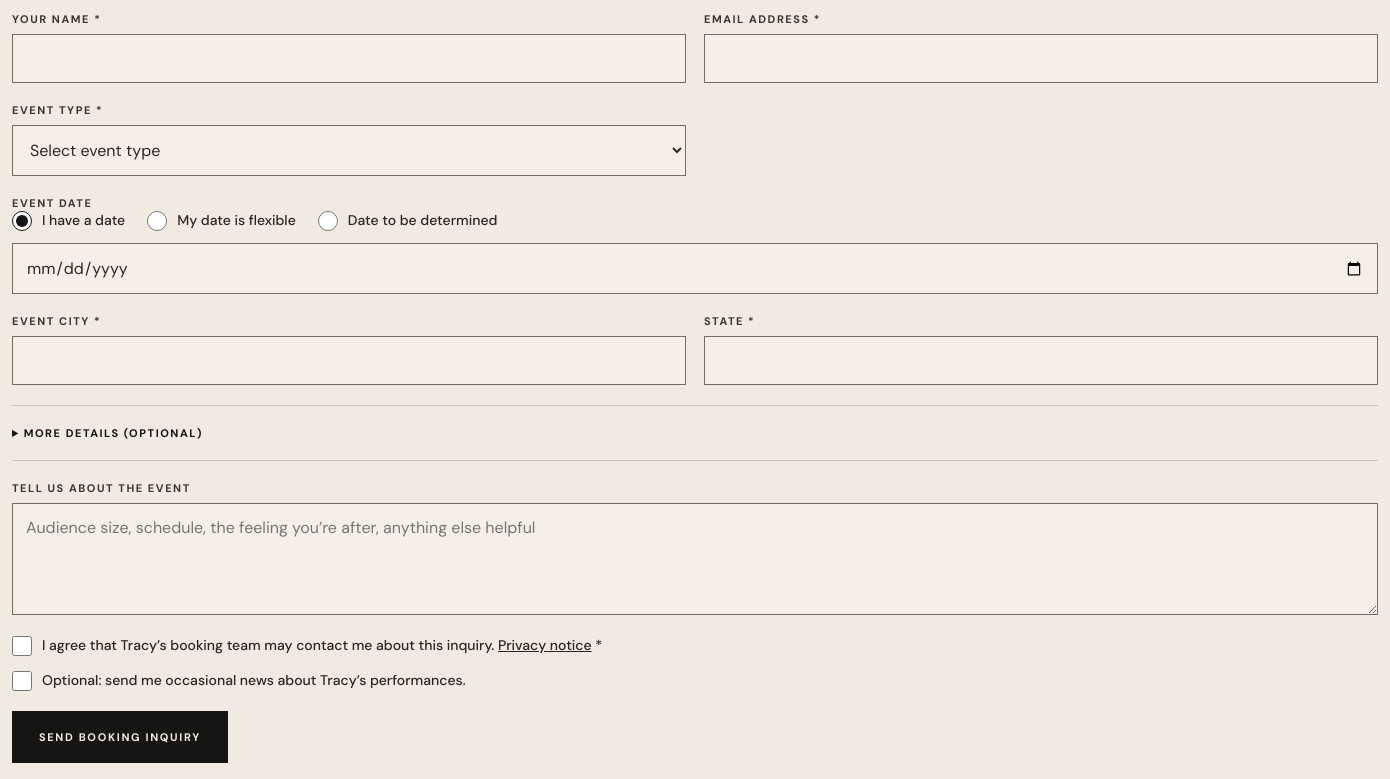
Scenario: BookingInquiryForm › posts the right payload and shows thanks only after the server confirms
Type "Sample Booker" into the field labelled "Your name *" at (349, 58), box [12,34,686,83]
Type "booker@example.com" into the field labelled "Email address *" at (1041, 58), box [704,34,1378,83]
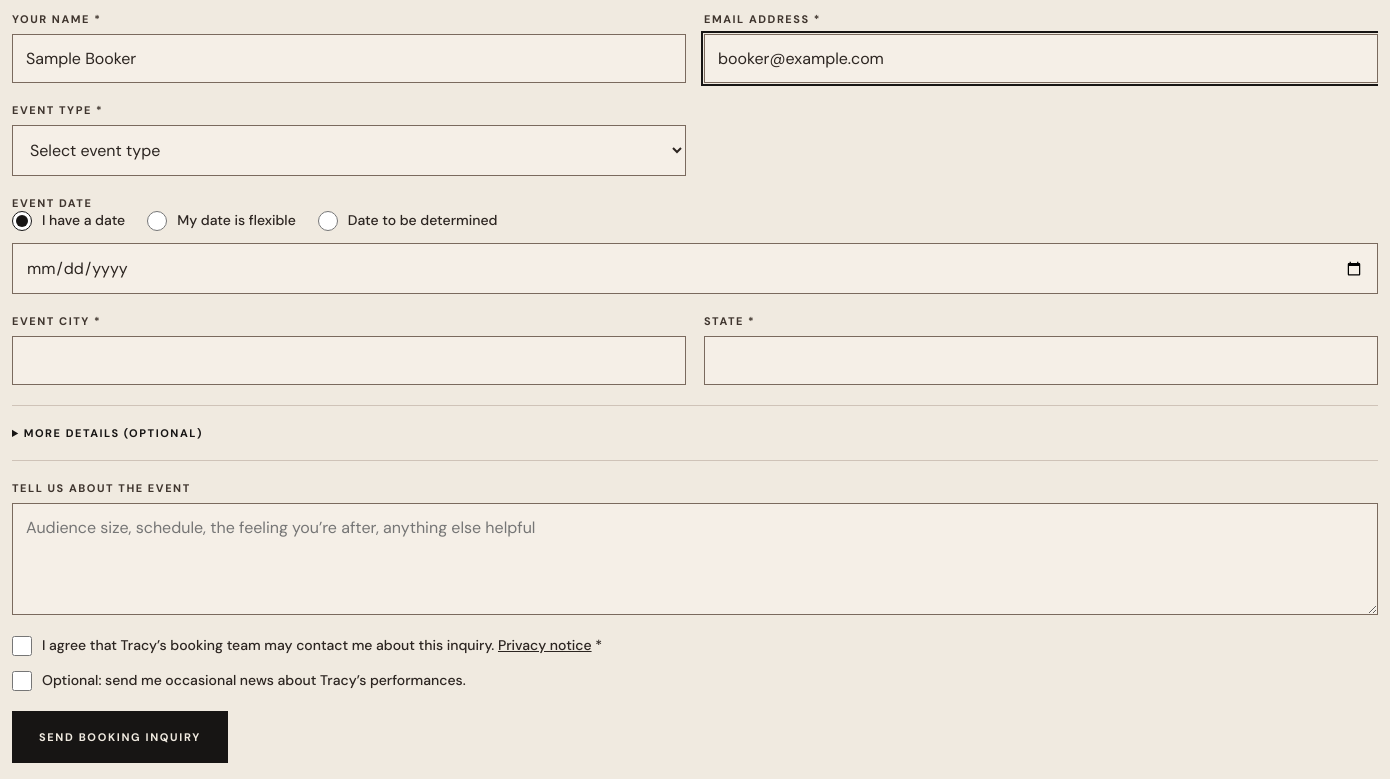
Select "Corporate event" in the dropdown labelled "Event type *" at (349, 150), box [12,125,686,176]
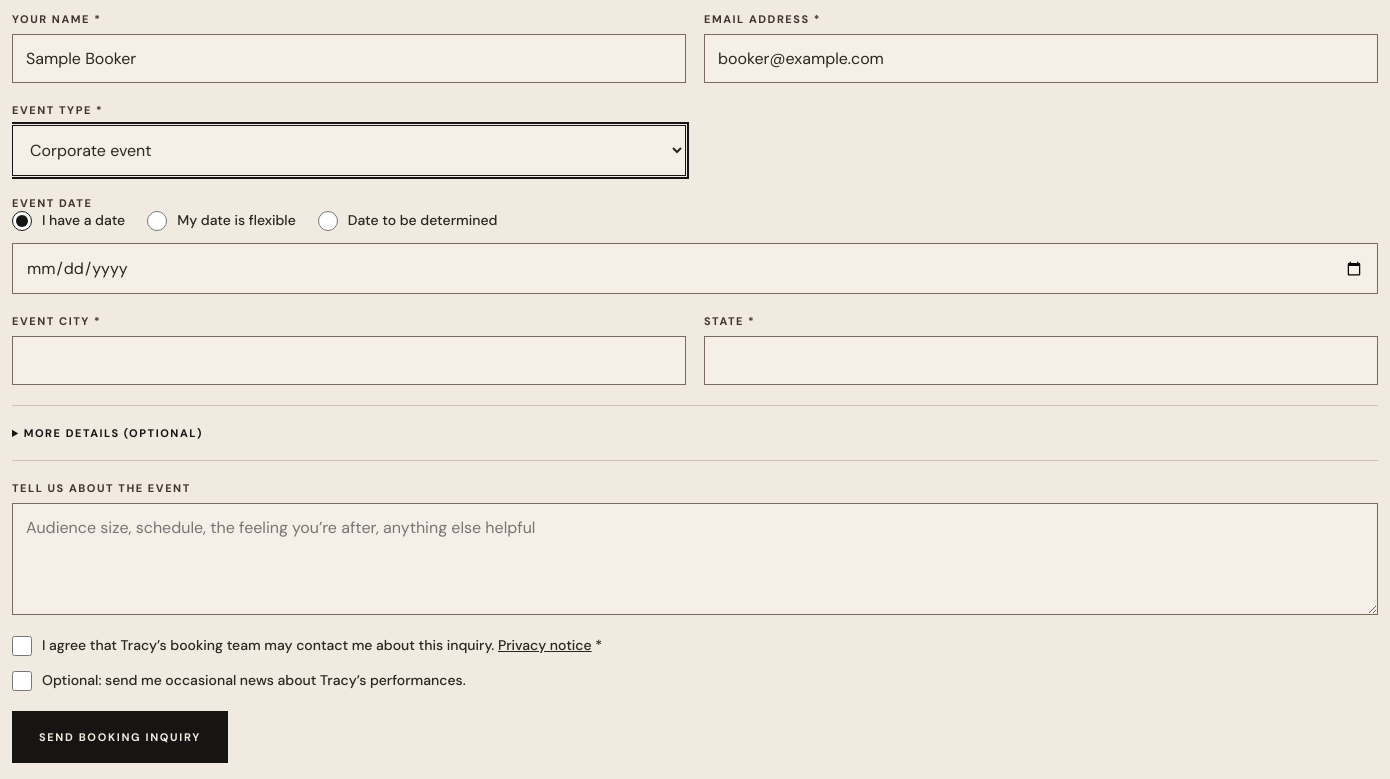
Click the radio button labelled "Date to be determined" at (328, 221), box [318,211,338,231]
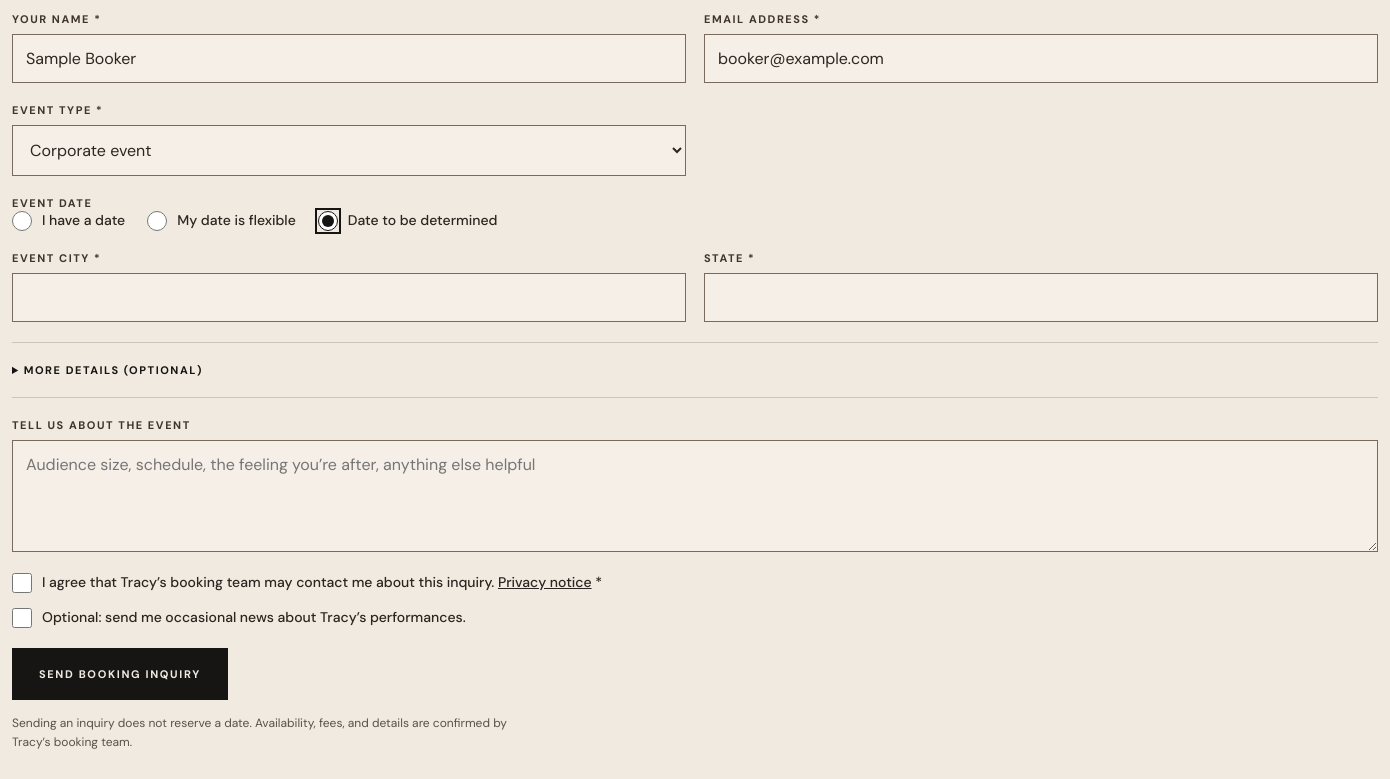
Type "St. Louis" into the field labelled "Event city *" at (349, 298), box [12,273,686,322]
Type "MO" into the field labelled "State *" at (1041, 298), box [704,273,1378,322]
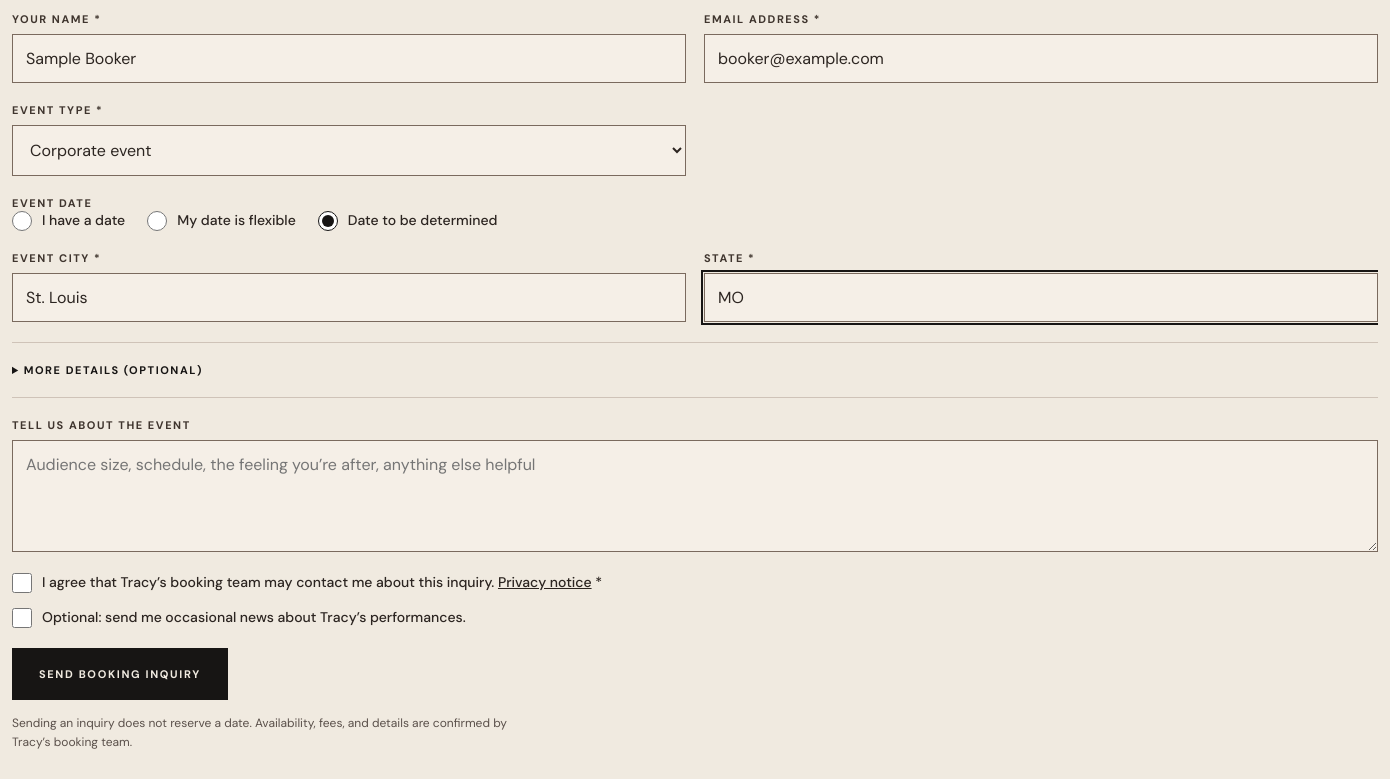
Click the checkbox labelled "may contact me about this inquiry" at (22, 583), box [12,573,32,593]
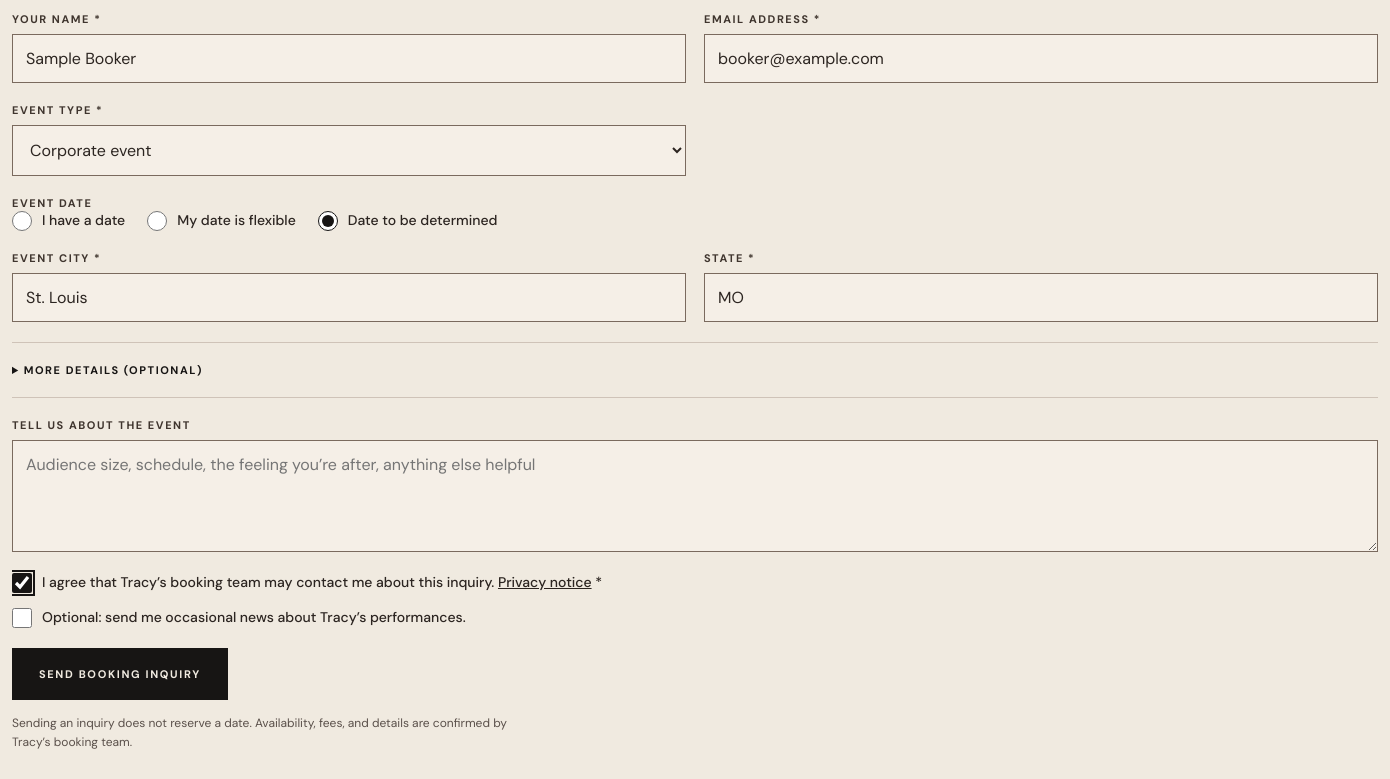
Click the button "Send booking inquiry" at (120, 674), box [12,648,228,700]
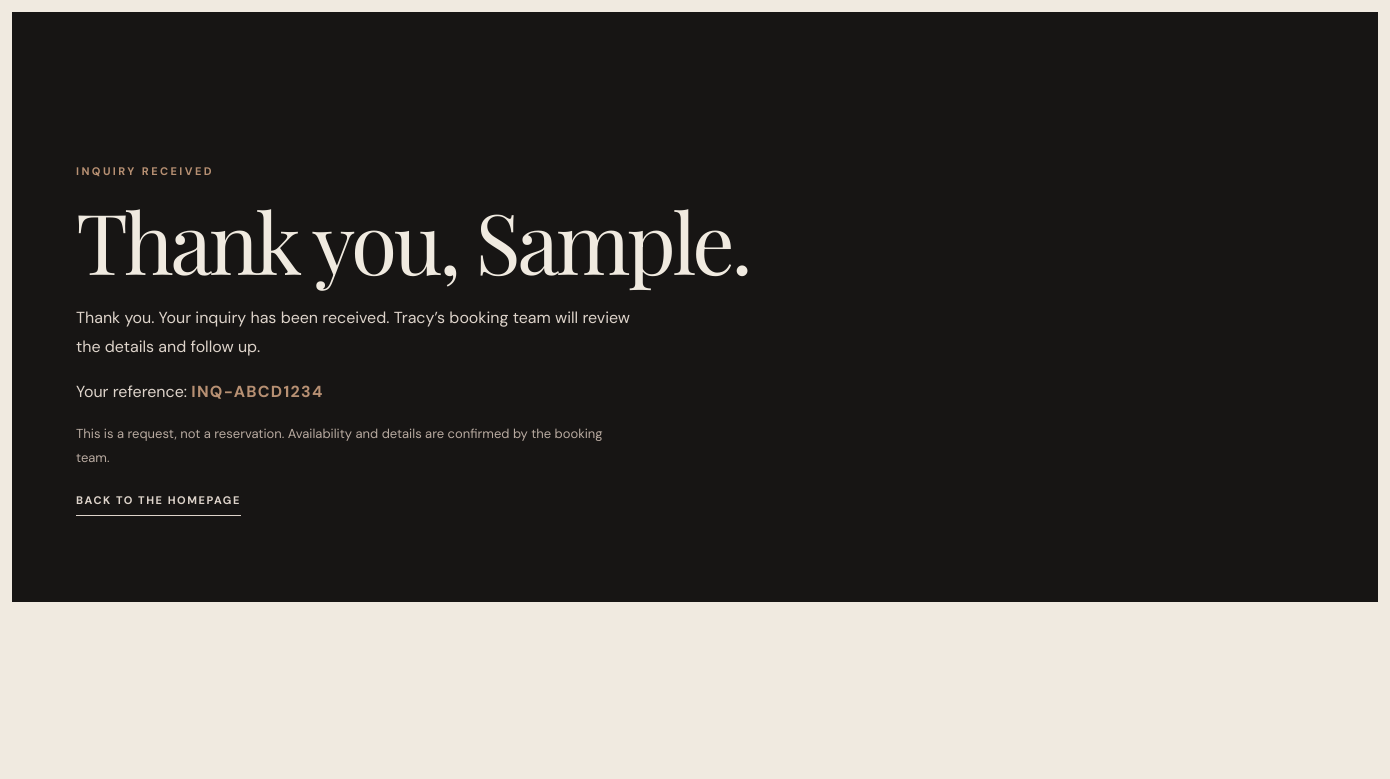
Now the text "INQ-ABCD1234" is shown, box [191,381,324,402]
Now the text "Your inquiry has been received" is shown, box [76,307,394,328]
